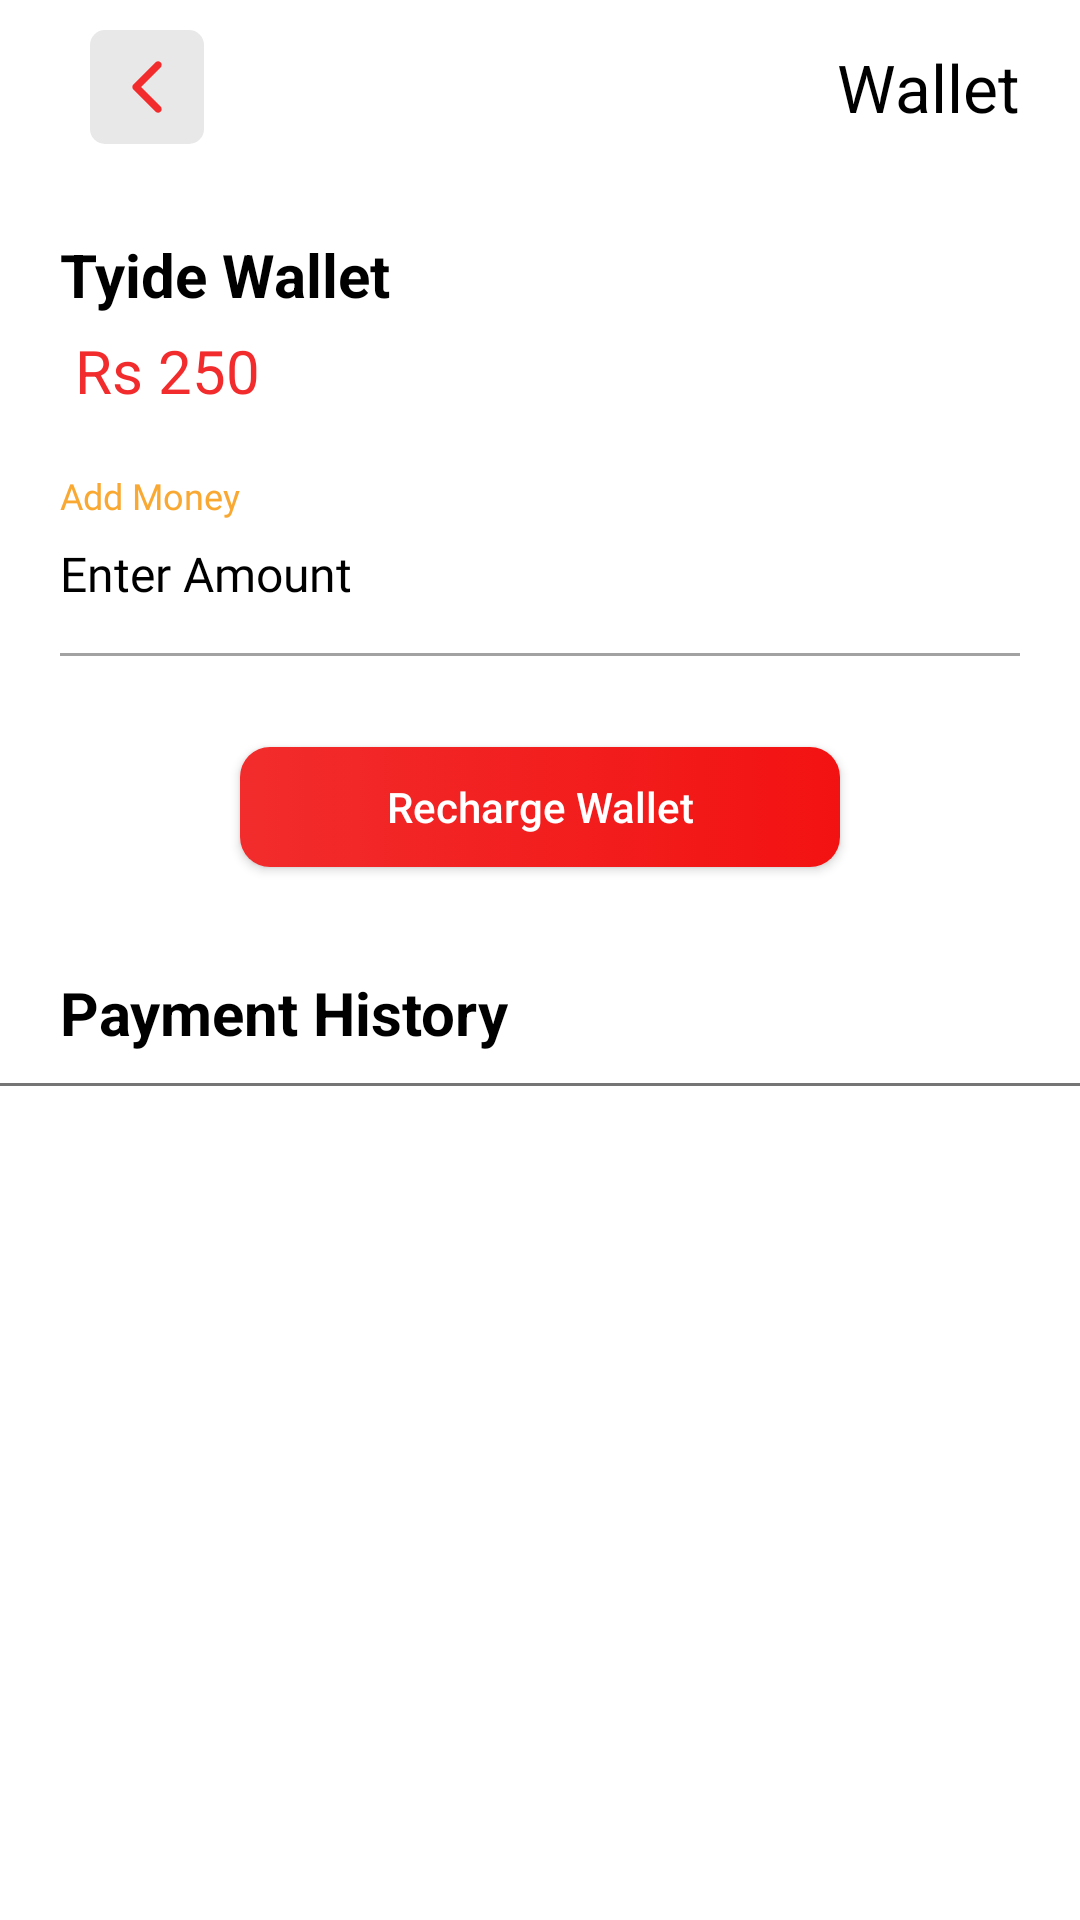

Screen size 1080 x 1920. Icon name, then its center in pixels as (x,y):
arrow back: (147,87)
